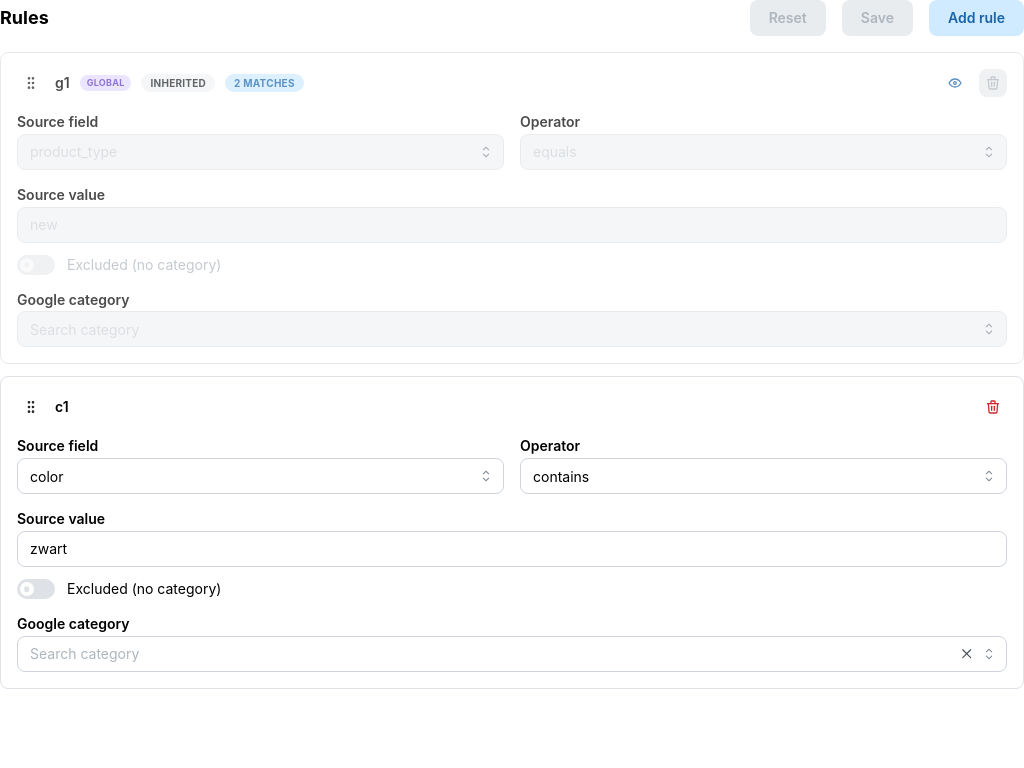
RulesTab › Per-rule match badge from stats and matches modal with product list
Check: the text "2 matches" is shown once, box [234,75,295,91]
Click the button named "Show matched products" at (955, 83), box [941,69,969,97]
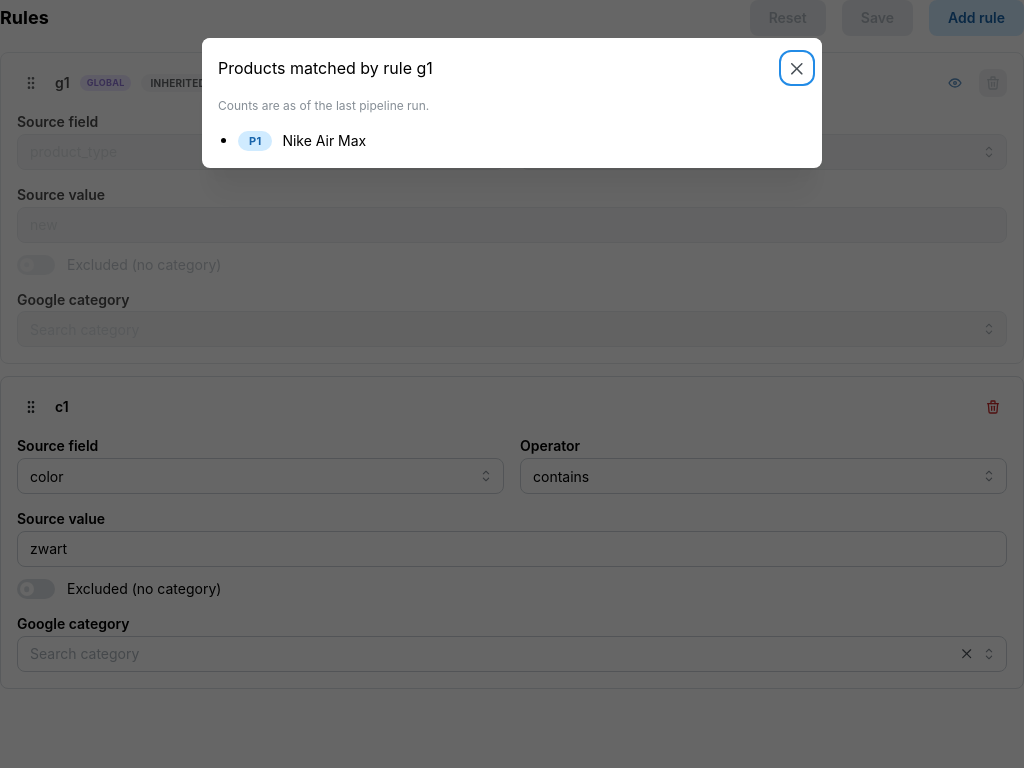
Check: the heading "Products matched by rule g1" is shown, box [218,60,433,76]
Check: the text "P1" is shown, box [249,132,261,150]
Check: the text "Nike Air Max" is shown, box [282,131,366,151]
